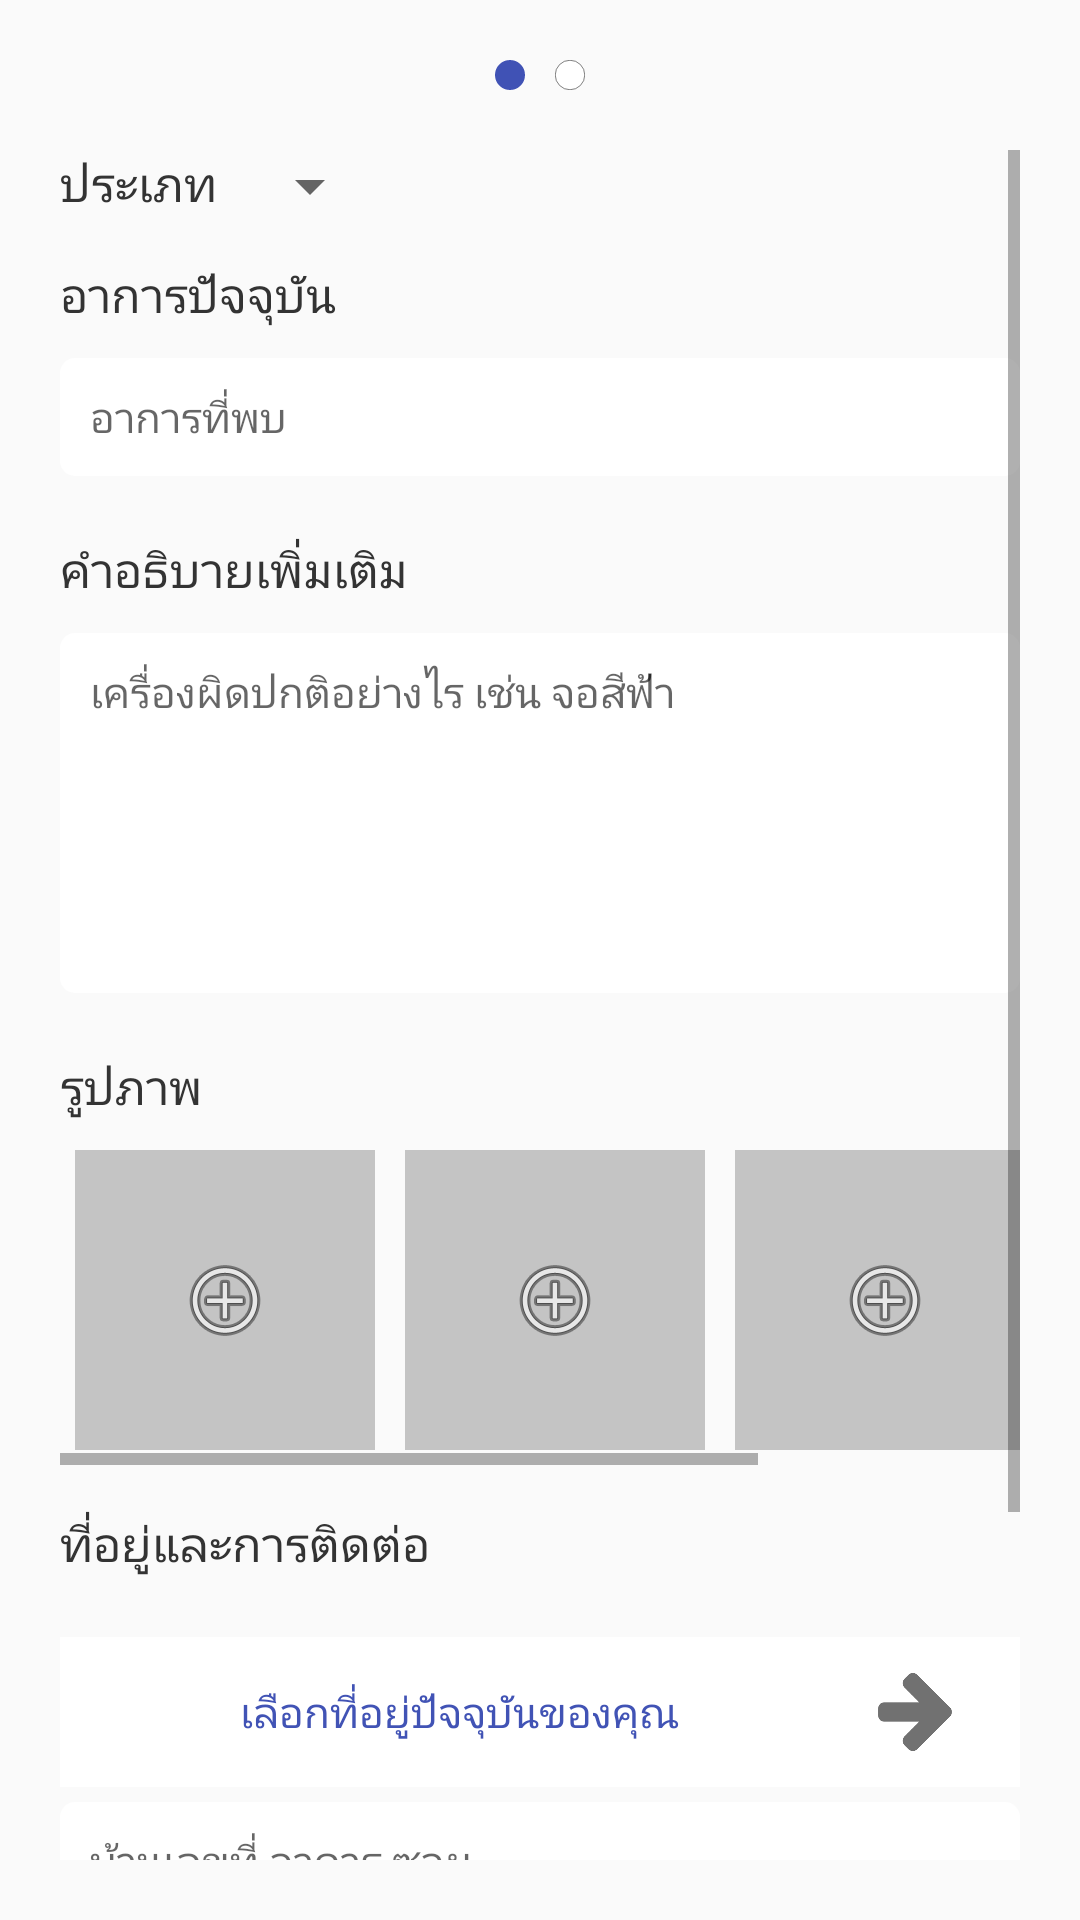

Named icons in this screenshot (1080×1920) and their centers, point (x, y):
right arrow: point (915, 1712)
